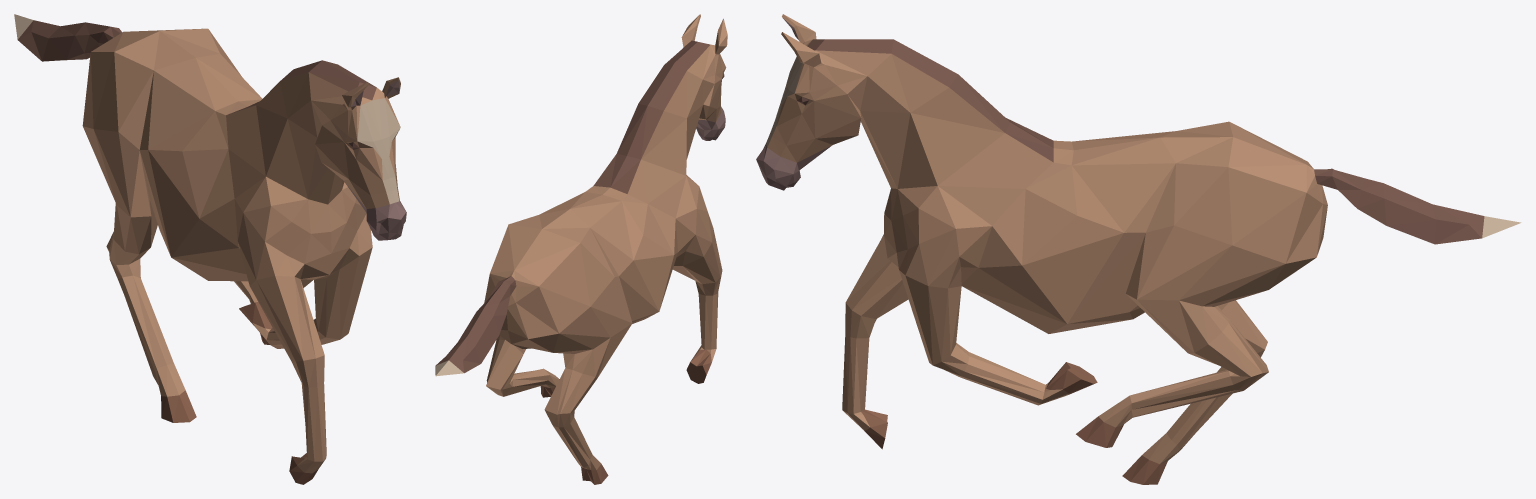
Rendered from Horse.glb.
3 views of the same model, side by side, from view 1: azimuth 30°, elevation 25°; view 2: azimuth 150°, elevation 25°; view 3: azimuth 270°, elevation 25° (orthographic). The views are drawn at different scales.
Visible parts, largest first — view 1: mesh_0; view 2: mesh_0; view 3: mesh_0.
Part boxes in pixels (left/top/right/bottom): mesh_0: left=14, top=14, right=406, bottom=484; mesh_0: left=435, top=14, right=727, bottom=484; mesh_0: left=756, top=14, right=1521, bottom=484.
Size of the model in its own units: 64.65 by 189 by 277.
